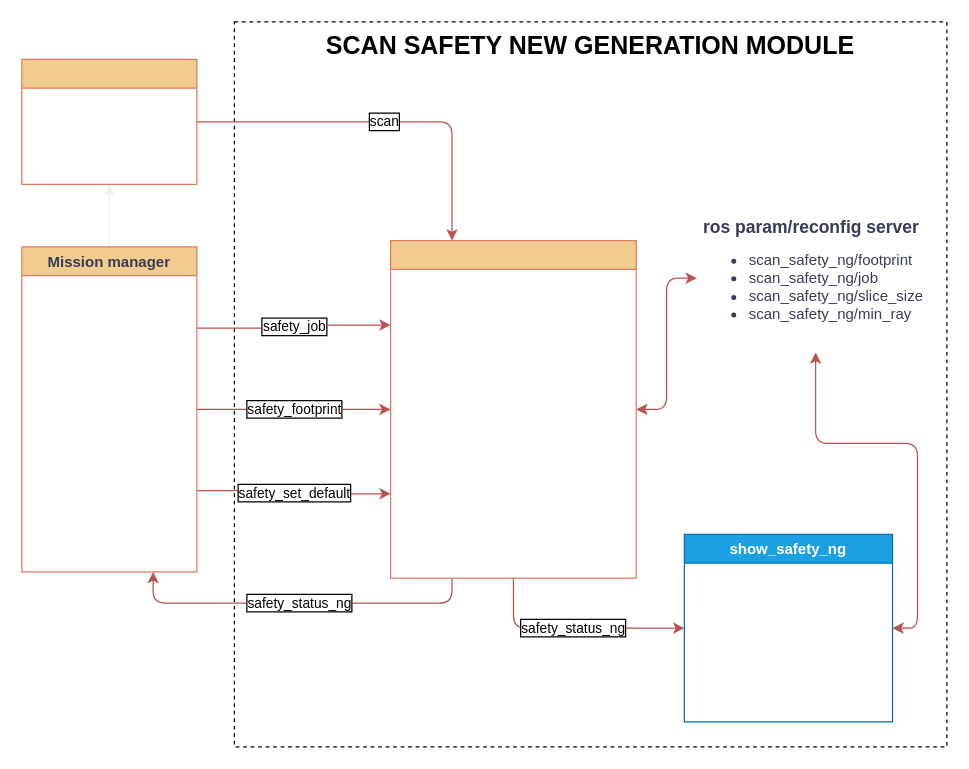
Some shapes in this 969 by 769 pixel diagram are drawn without their labels. The shapes that lost their labels are listed below. From the top down, each one's centre as x and y in pixels, then its label:
(x=109, y=121): lidar
(x=512, y=408): scan_safety_node_ng
